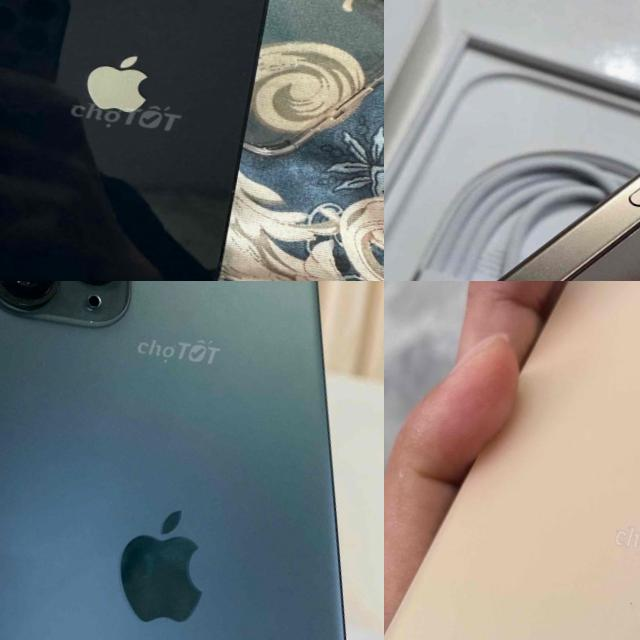gen_11: (0, 281, 384, 640), (384, 281, 640, 640)
gen_12_13: (0, 0, 291, 281)
gen_16: (384, 0, 640, 281)
